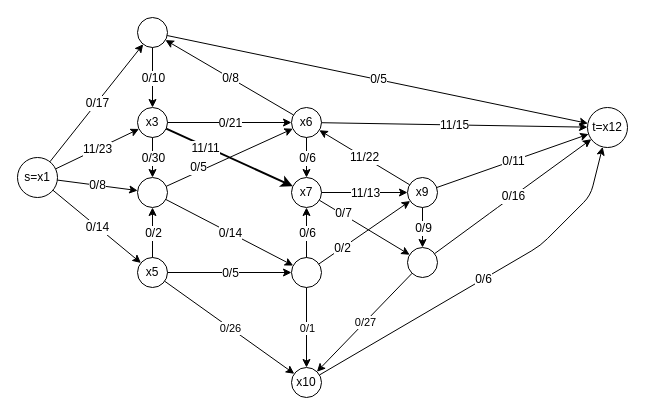
Image size: 645x415. Some labels were removed from this diagram. Here are the shapes that lost their labels. From the top down, the box of each, then its label:
(136, 16, 168, 48): x2
(136, 176, 168, 208): x4
(290, 256, 322, 288): x8
(406, 246, 438, 278): x11
